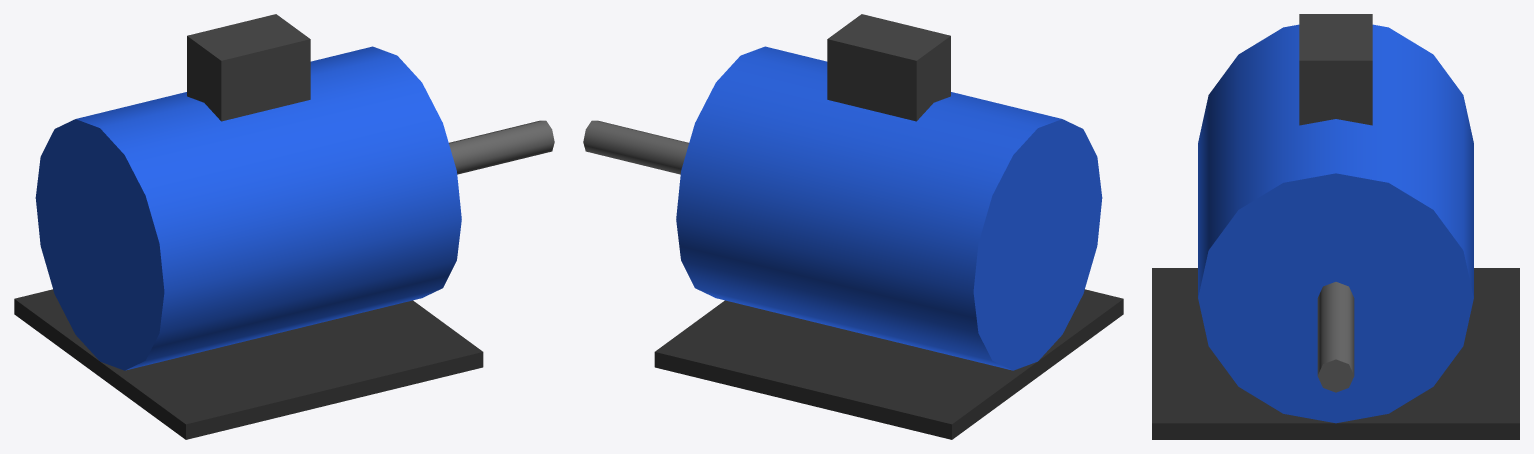
Rendered from motor-unit.glb.
3 views of the same model, side by side, from view 1: azimuth 30°, elevation 25°; view 2: azimuth 150°, elevation 25°; view 3: azimuth 270°, elevation 25° (orthographic). The views are drawn at different scales.
Bounding box in the file's own units: 0.3 × 0.195 × 0.2.
